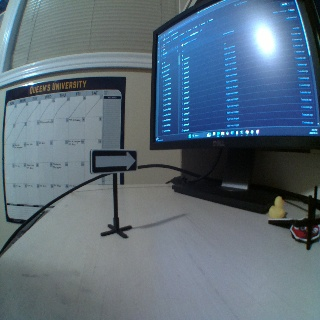sign_oneway_right: (89, 148, 136, 172)
